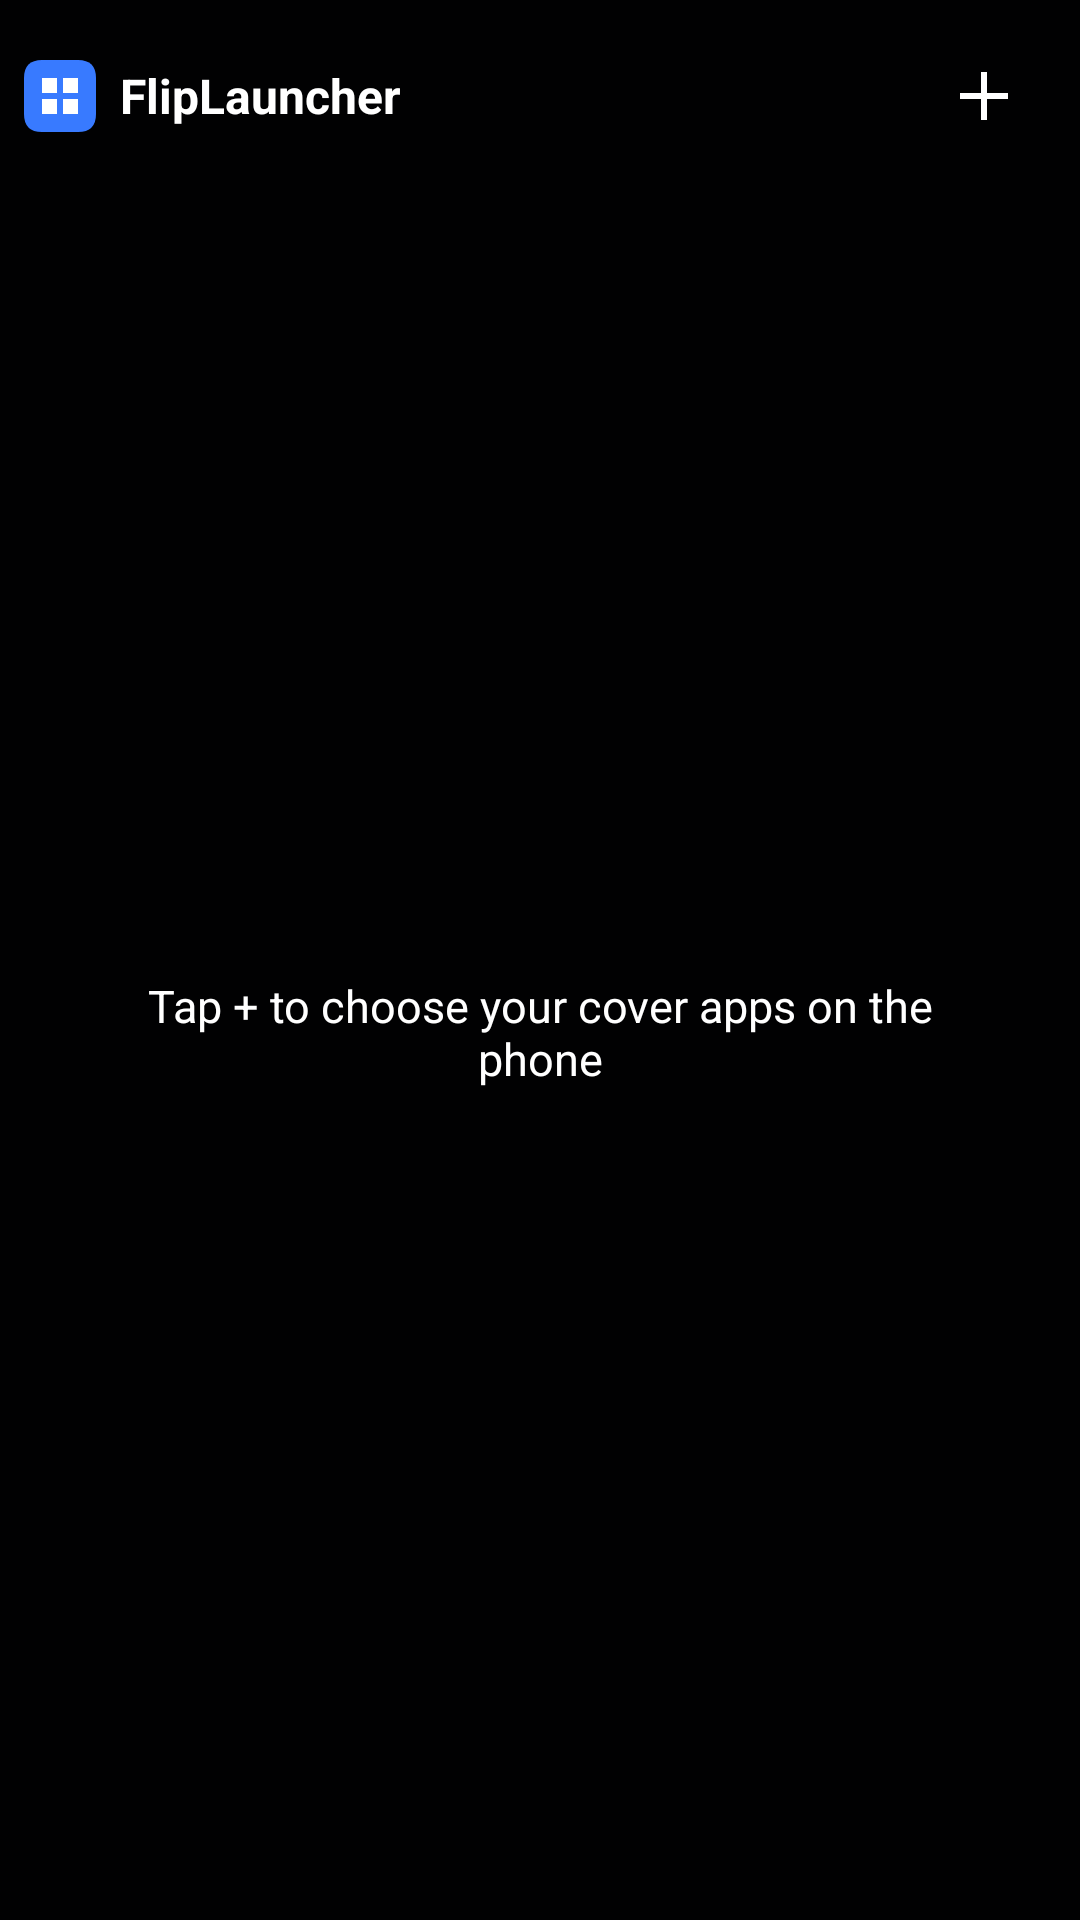

Icons on this 1080*1920 Android screen, each with its box as (x1, y1, x2, y2):
widget mark: (24, 60, 96, 132)
